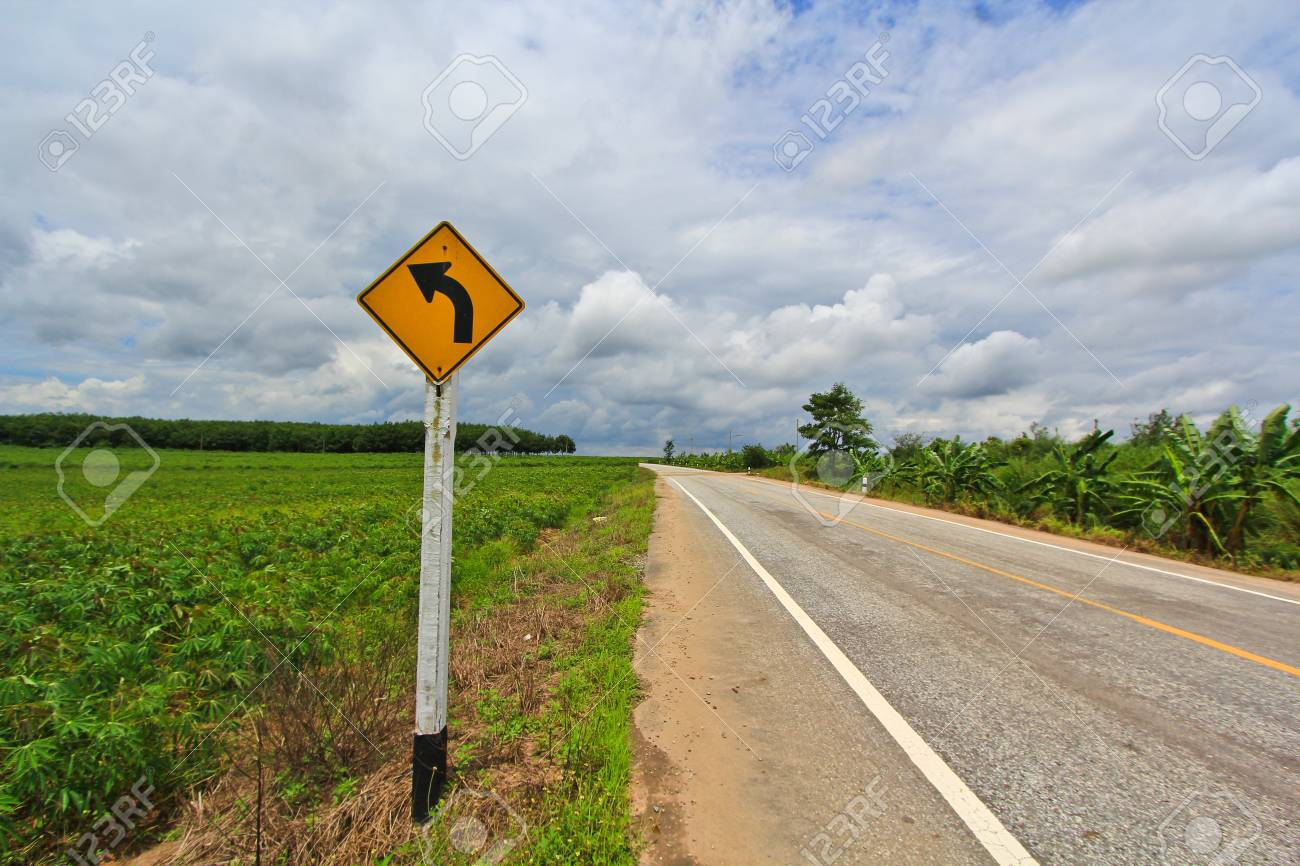left: (356, 216, 528, 387)
